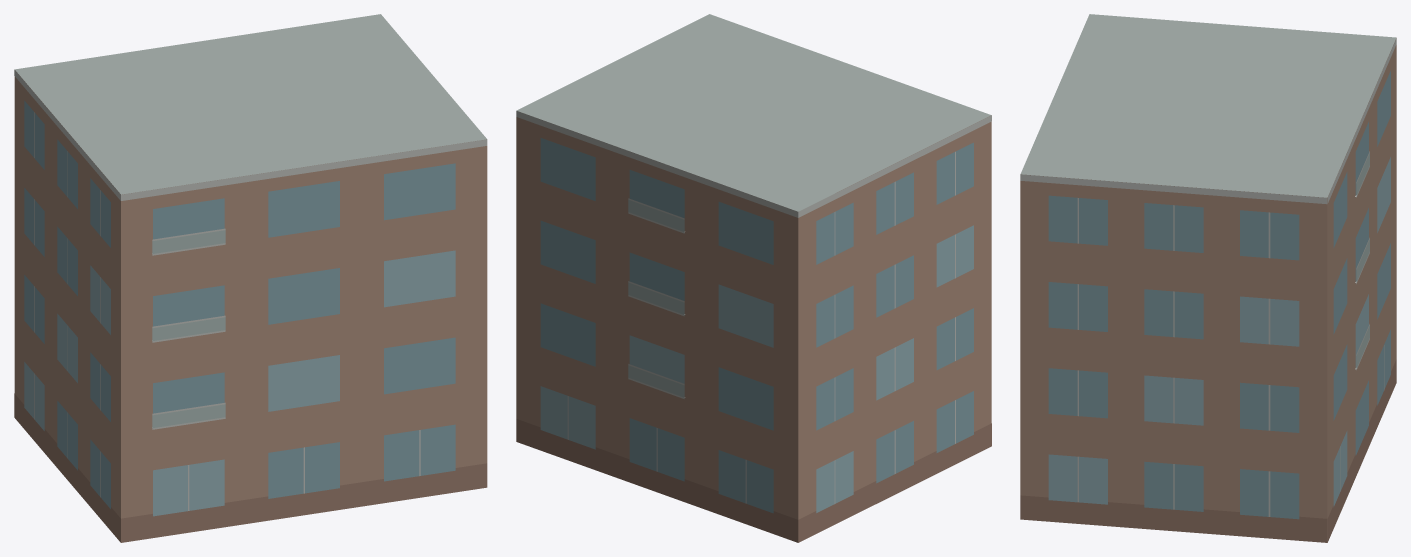
The model's file is survey-upis-32712247.glb.
The picture shows the model from 3 angles, left to right: view 1: azimuth 30°, elevation 25°; view 2: azimuth 150°, elevation 25°; view 3: azimuth 270°, elevation 25°; orthographic projection. The views are drawn at different scales.
Visible parts, largest first — view 1: survey-upis-32712247.tmp; view 2: survey-upis-32712247.tmp; view 3: survey-upis-32712247.tmp.
Part boxes in pixels (box(x1,y1,x2,y2)): survey-upis-32712247.tmp: box(14, 14, 487, 542); survey-upis-32712247.tmp: box(516, 14, 991, 542); survey-upis-32712247.tmp: box(1020, 14, 1396, 542).
Bounding box in the file's own units: 14.85 × 13 × 12.85.
